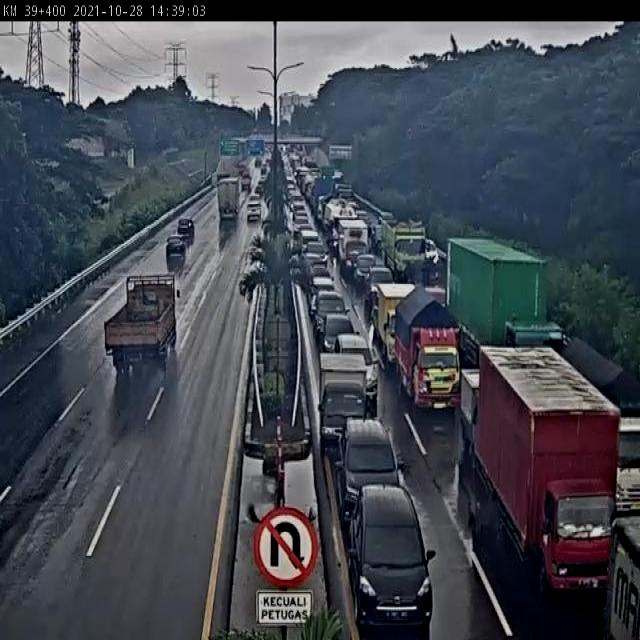Car: (345, 484, 434, 636), (335, 420, 404, 527), (334, 329, 382, 407), (310, 289, 350, 343), (318, 310, 356, 357), (309, 275, 338, 315), (366, 265, 395, 302), (352, 252, 378, 284), (303, 240, 329, 266), (424, 236, 442, 268), (308, 262, 334, 282), (166, 234, 187, 257), (301, 251, 322, 273), (299, 228, 320, 250), (176, 217, 194, 238), (297, 221, 314, 238), (264, 177, 276, 194)
Truck: (474, 339, 626, 606), (444, 233, 569, 371), (554, 334, 640, 518), (388, 287, 462, 412), (103, 272, 182, 375), (316, 351, 370, 454), (601, 512, 640, 640), (369, 282, 415, 372), (379, 218, 426, 284), (459, 366, 486, 456), (323, 194, 361, 253), (334, 216, 369, 278), (314, 176, 338, 224), (217, 175, 241, 222), (370, 217, 386, 250), (239, 172, 253, 193)
Van: (246, 200, 262, 224)
